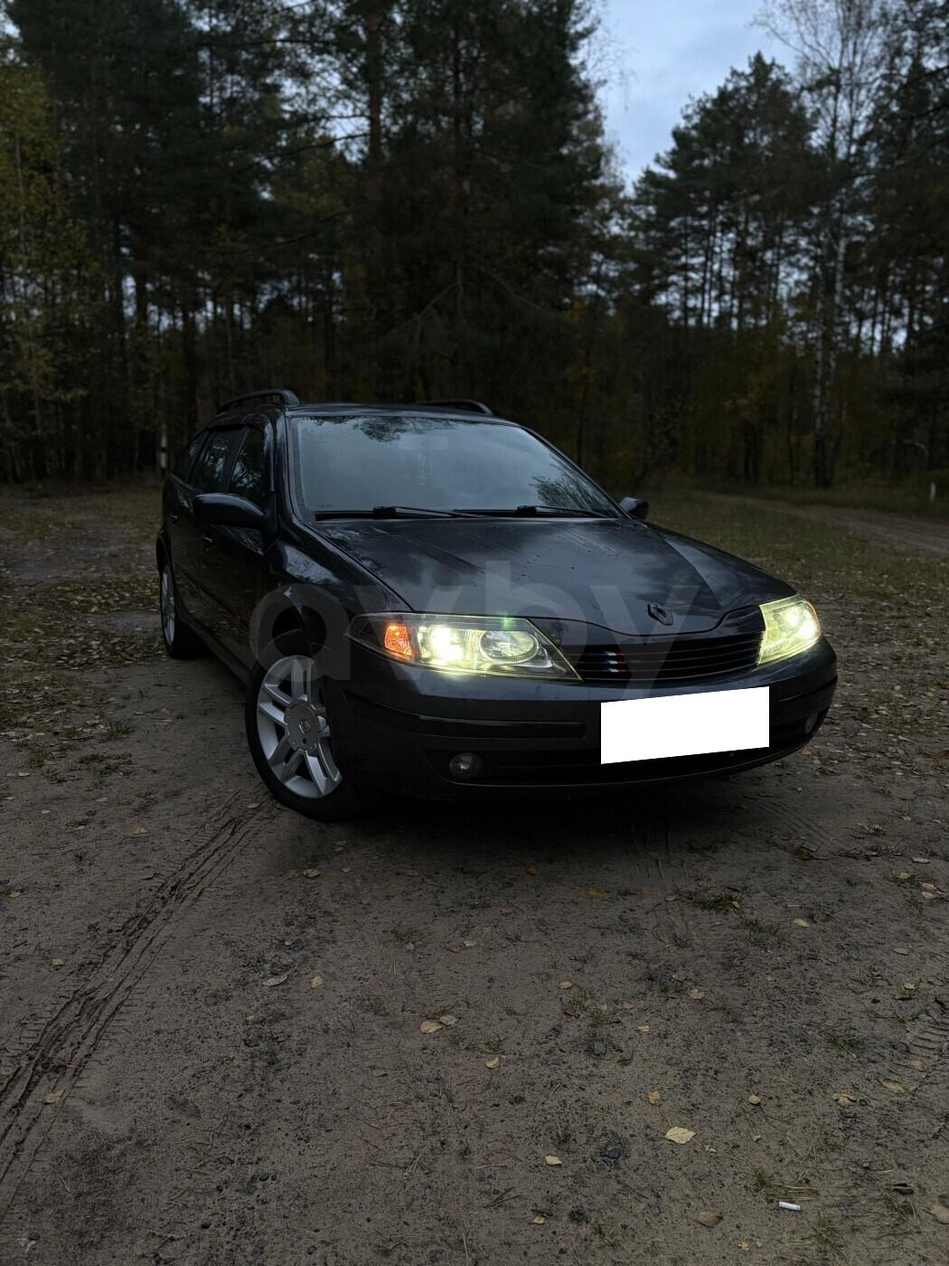Laguna_2001-2005: (155, 391, 837, 821)
